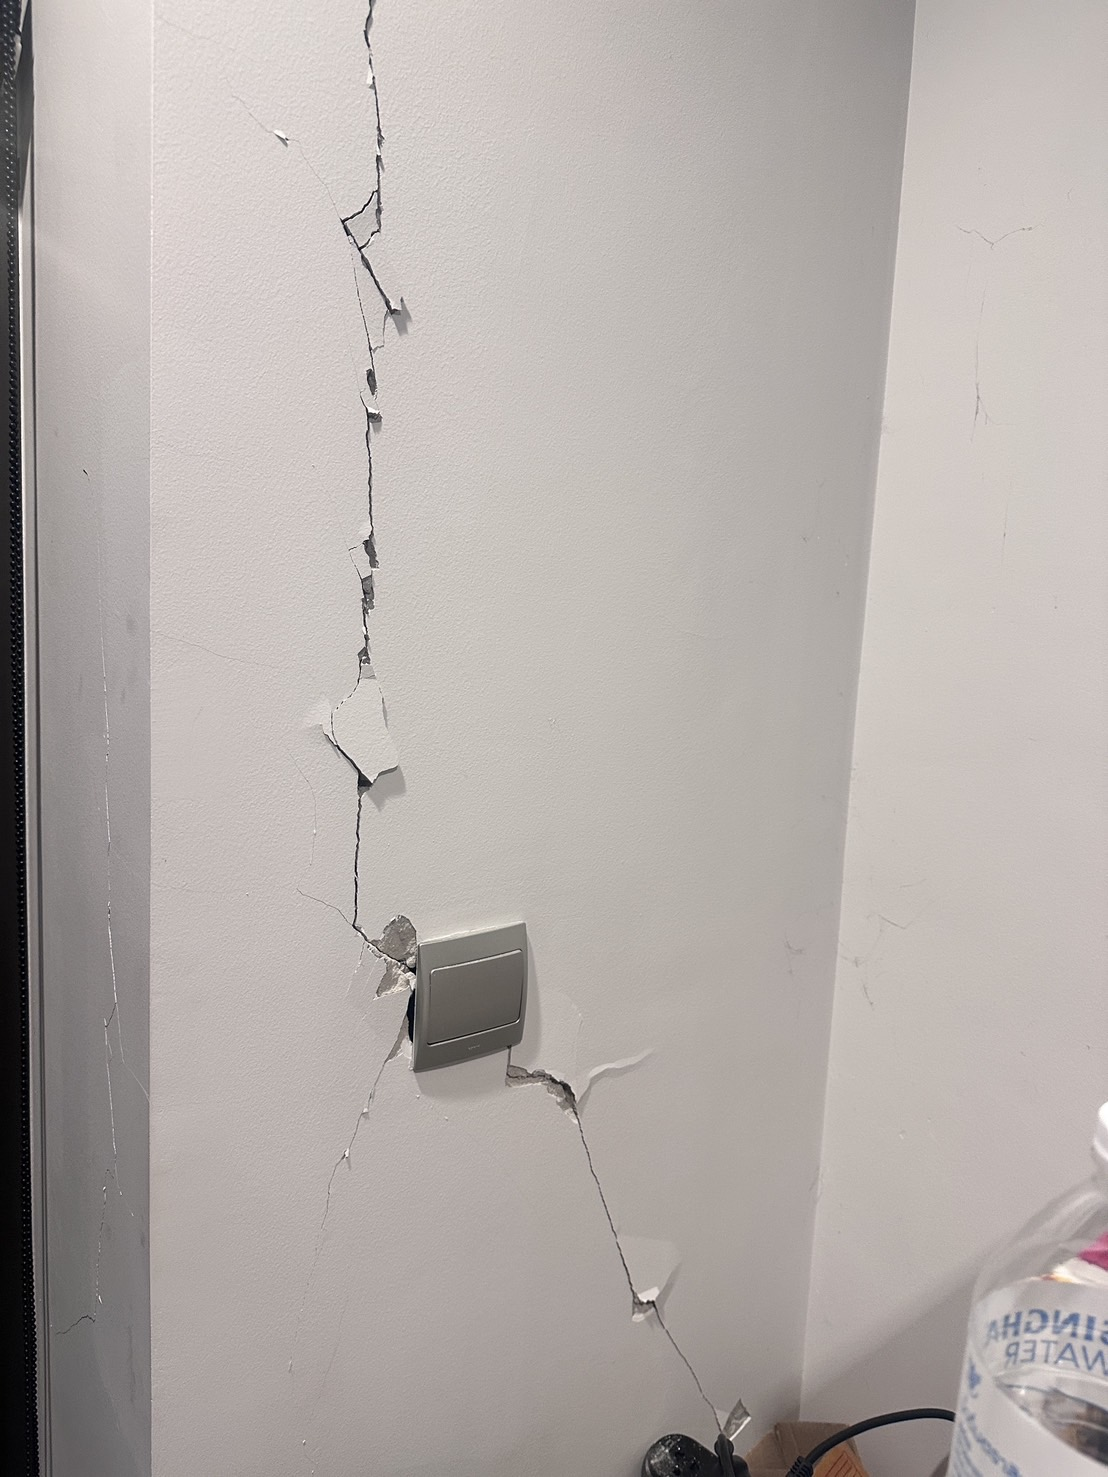Medium: (264, 97, 539, 894)
